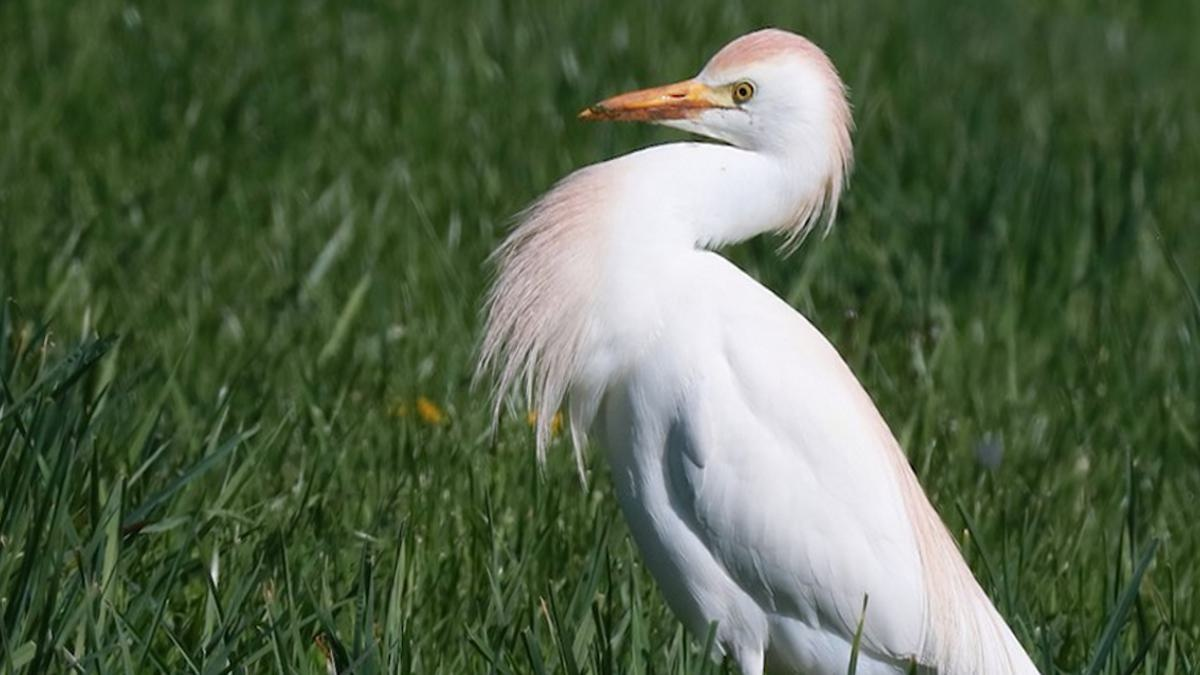egret: (508, 27, 1050, 673)
